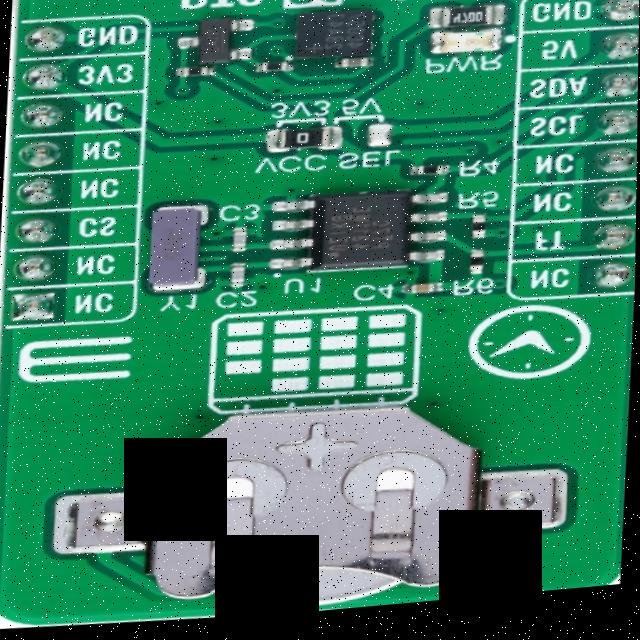4439: (185, 20, 241, 68)
IC: (280, 185, 431, 291), (288, 4, 377, 67)
LED: (434, 36, 501, 63)
battery: (46, 403, 554, 636)
capacitor 1V5: (231, 227, 250, 256), (225, 267, 246, 292), (341, 59, 375, 72), (408, 288, 440, 301)
clock Q1: (138, 205, 206, 294)
resistor IR1: (273, 129, 332, 159), (439, 11, 498, 38), (261, 62, 288, 79), (471, 221, 489, 243), (179, 69, 210, 80), (464, 262, 481, 281)
